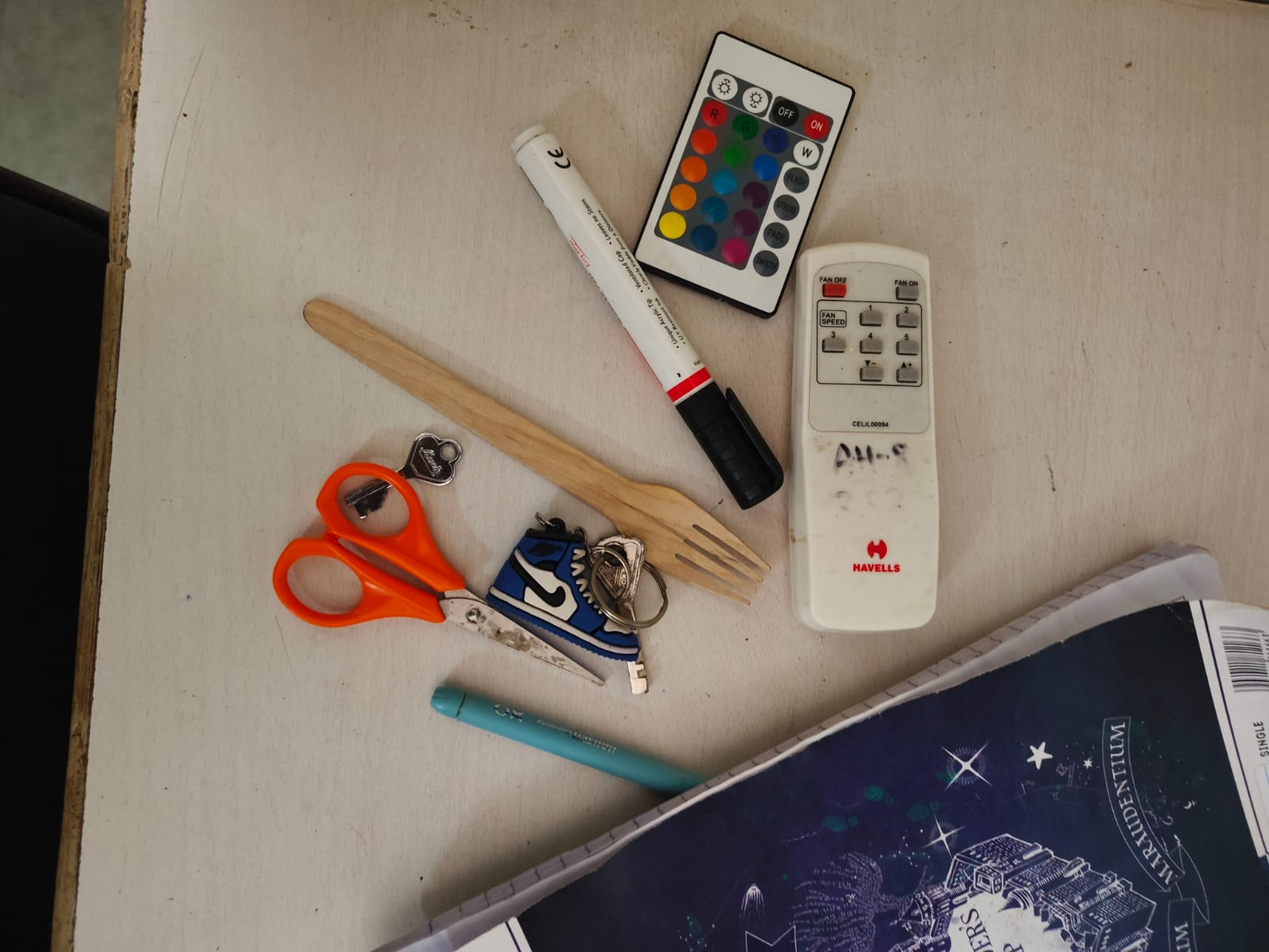pen: (400, 658, 710, 809)
